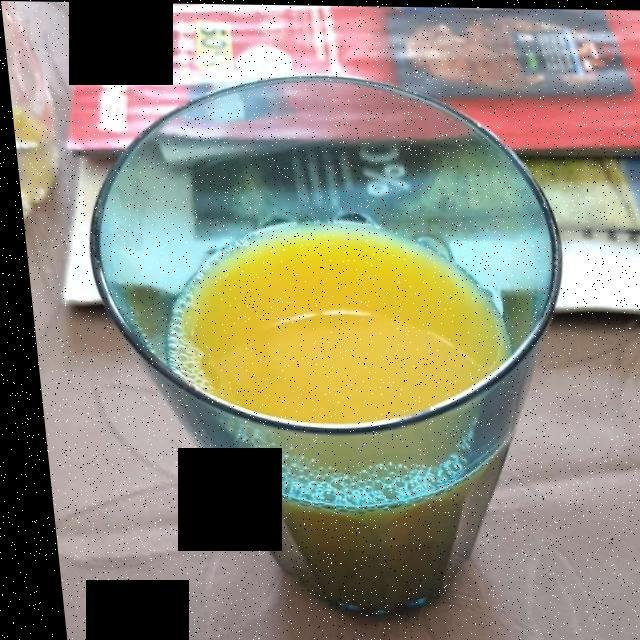juice: (172, 229, 497, 422)
